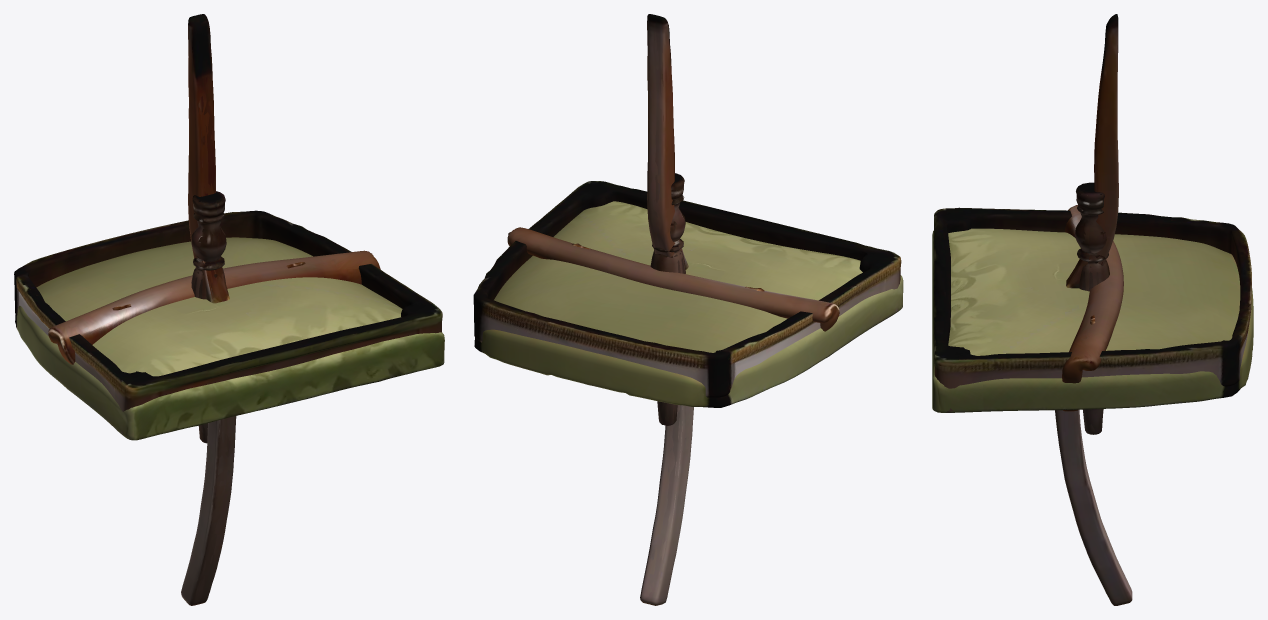
The picture shows the model from 3 angles, left to right: view 1: azimuth 30°, elevation 25°; view 2: azimuth 150°, elevation 25°; view 3: azimuth 270°, elevation 25°; orthographic projection.
Visible parts, largest first — view 1: root.0, root.1, root.2, root.4, root.3, root.6, root.7; view 2: root.0, root.1, root.2, root.3, root.4, root.6, root.7; view 3: root.0, root.1, root.3, root.4, root.2, root.7, root.6.
Boxes of the visible parts, x1=… form: root.0: x1=15, y1=237, x2=444, y2=440; root.1: x1=14, y1=210, x2=442, y2=436; root.2: x1=48, y1=250, x2=380, y2=364; root.4: x1=181, y1=14, x2=235, y2=605; root.3: x1=188, y1=14, x2=236, y2=605; root.6: x1=191, y1=195, x2=226, y2=443; root.7: x1=191, y1=191, x2=225, y2=442; root.0: x1=474, y1=201, x2=903, y2=407; root.1: x1=473, y1=181, x2=901, y2=397; root.2: x1=507, y1=227, x2=839, y2=331; root.3: x1=640, y1=14, x2=682, y2=605; root.4: x1=641, y1=14, x2=693, y2=605; root.6: x1=652, y1=174, x2=685, y2=425; root.7: x1=650, y1=173, x2=685, y2=424; root.0: x1=932, y1=228, x2=1253, y2=412; root.1: x1=934, y1=207, x2=1251, y2=412; root.3: x1=1055, y1=14, x2=1132, y2=605; root.4: x1=1055, y1=15, x2=1132, y2=603; root.2: x1=1062, y1=205, x2=1123, y2=411; root.7: x1=1076, y1=182, x2=1109, y2=433; root.6: x1=1075, y1=182, x2=1108, y2=434.
Bounding box in the file's own units: 20861 × 36235 × 18006.
Materials: 1 (1 with a texture image).
